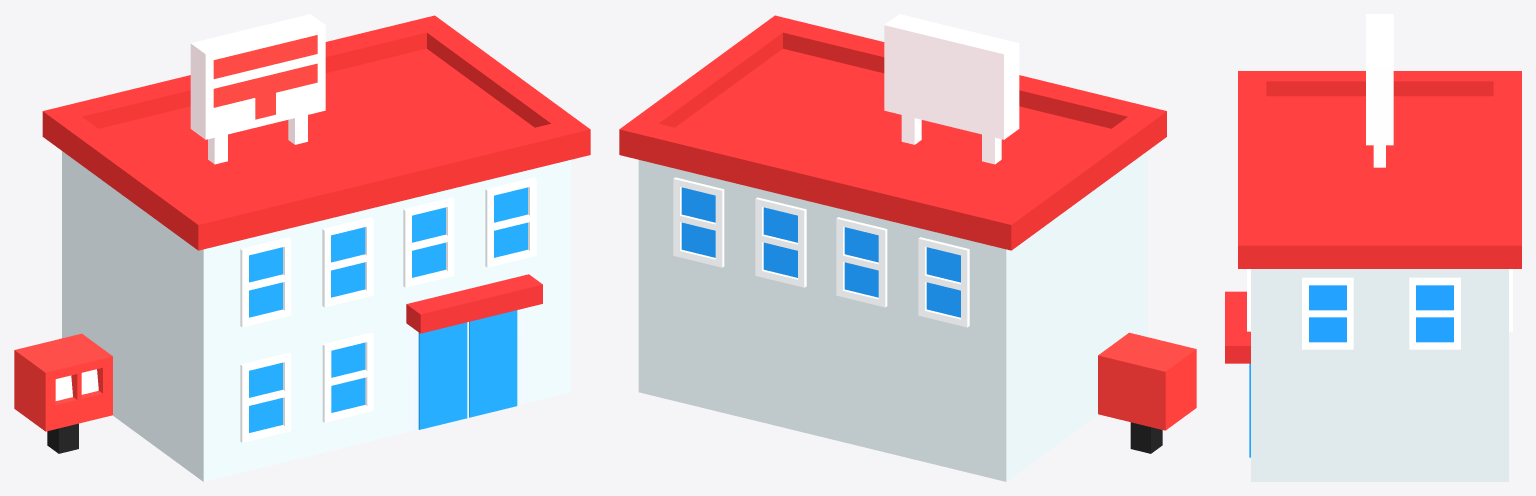
Rendered from japanese_post_office.gltf.
The picture shows the model from 3 angles, left to right: view 1: azimuth 30°, elevation 25°; view 2: azimuth 150°, elevation 25°; view 3: azimuth 270°, elevation 25°; orthographic projection. The views are drawn at different scales.
Parts seen in each view (by area): view 1: Cube.484; view 2: Cube.484; view 3: Cube.484.
Boxes of the visible parts, box(x1,y1,x2,y2) form: Cube.484: box(14, 14, 590, 481); Cube.484: box(619, 14, 1196, 481); Cube.484: box(1225, 14, 1521, 481).
Bounding box in the file's own units: 2.23 × 1.61 × 1.3.
1 material, 1 textured.
